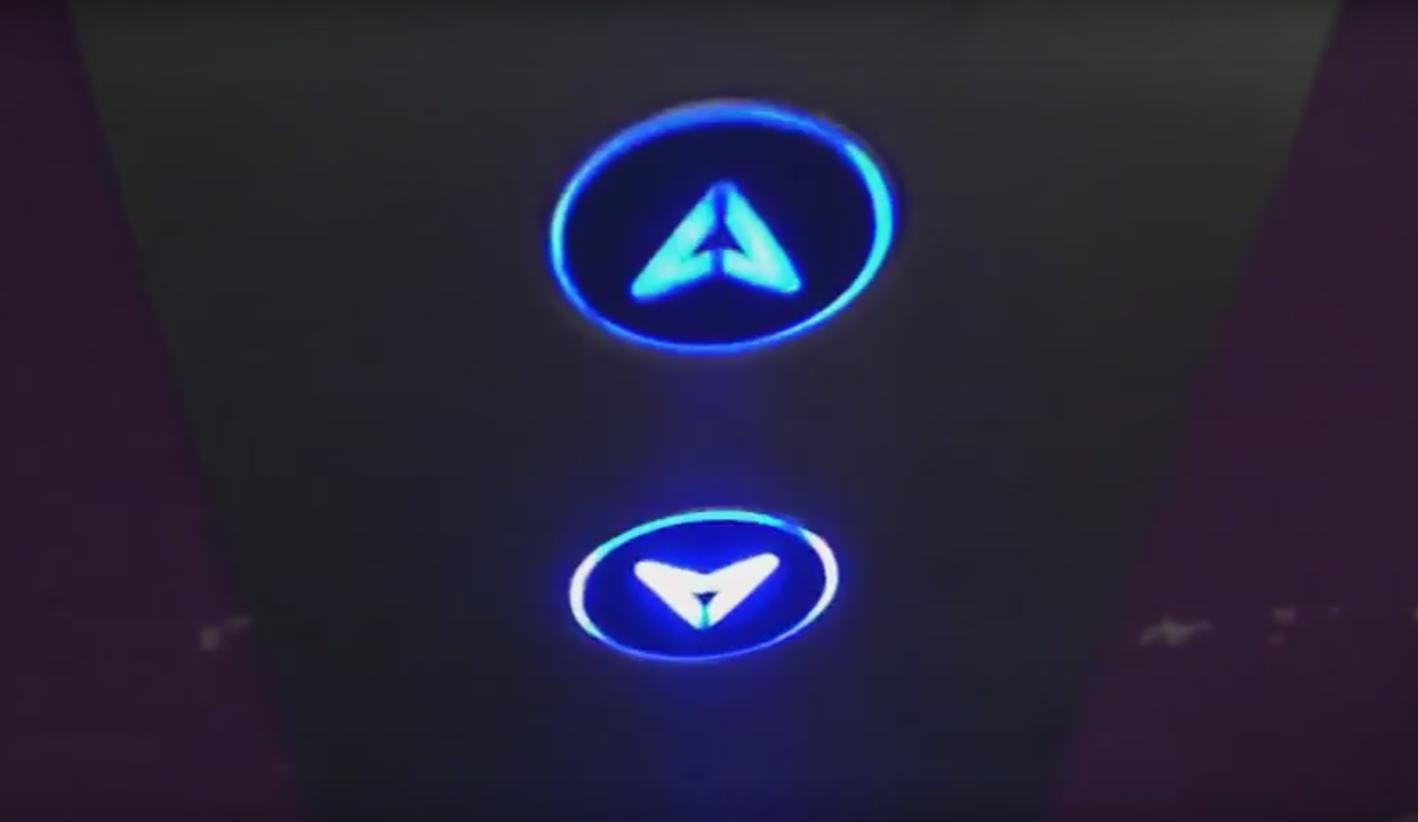down: (557, 497, 845, 675)
up: (546, 91, 899, 361)
